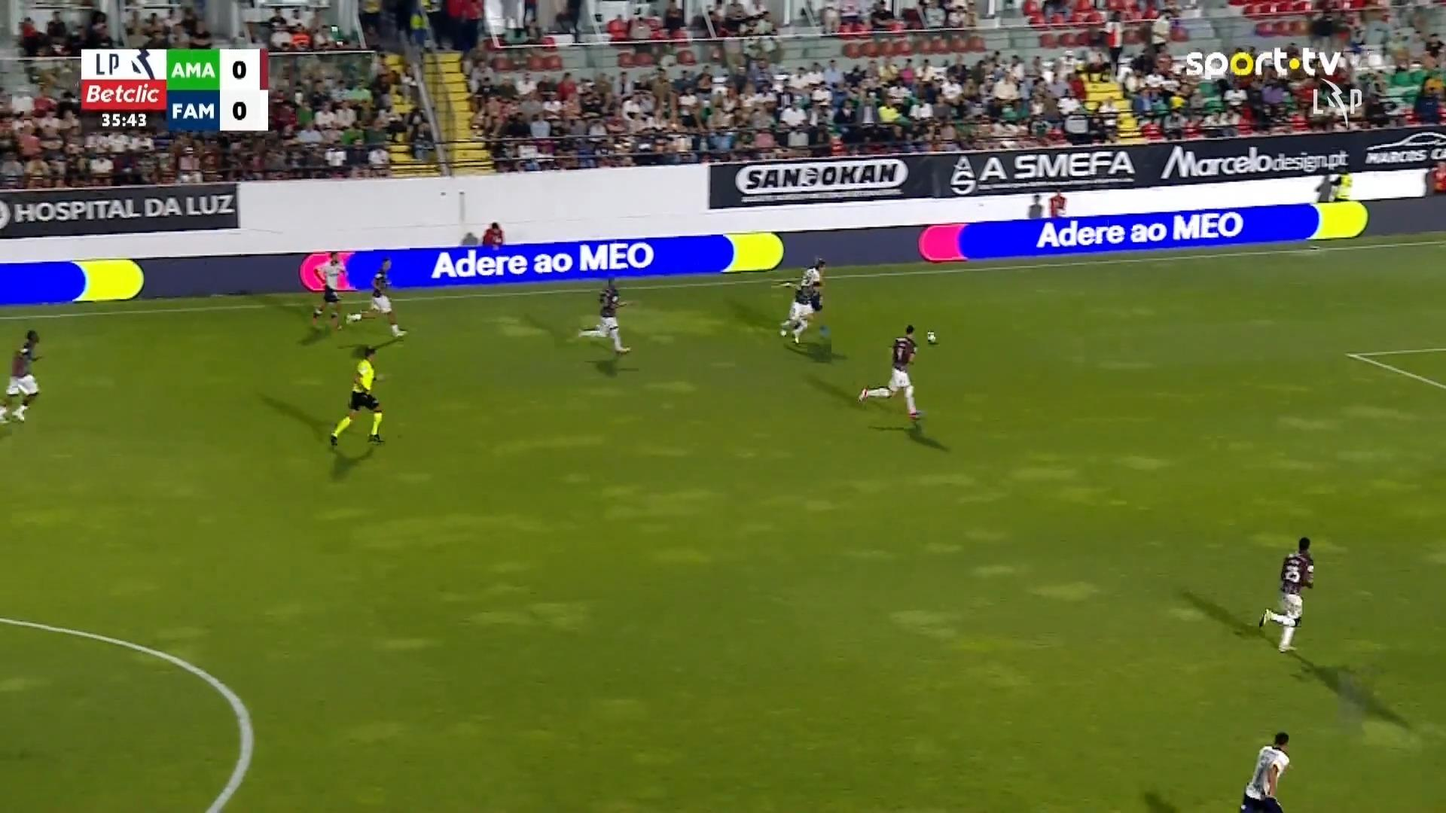ball: (926, 330, 936, 343)
player: (1257, 535, 1315, 652), (857, 323, 923, 419), (344, 257, 407, 337), (776, 256, 827, 345), (578, 276, 632, 354), (1239, 730, 1291, 811), (0, 328, 43, 423), (310, 249, 347, 330)
referee: (328, 343, 386, 446)
